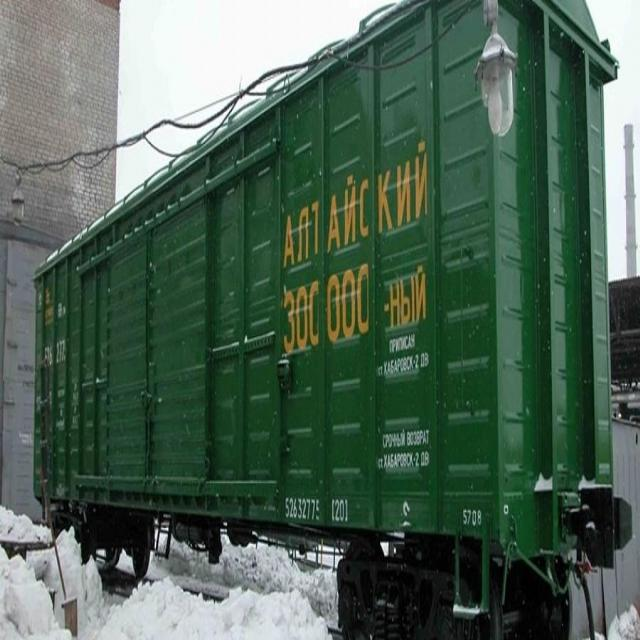boxcar: (27, 0, 630, 640)
